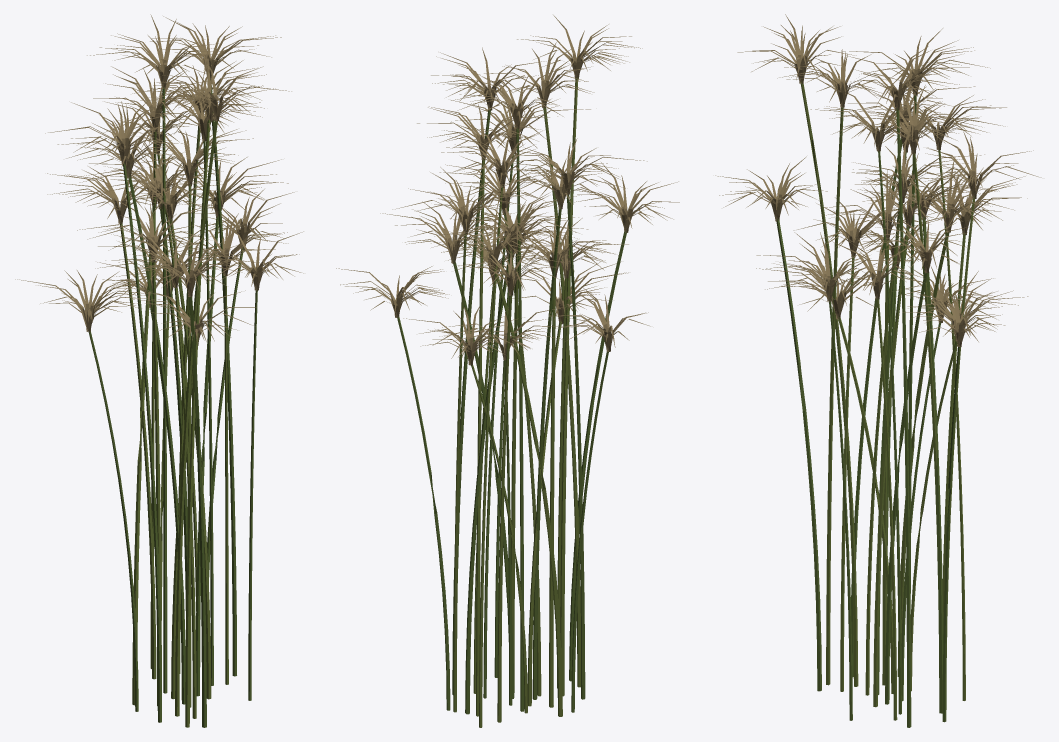
The model's file is common_reed_v1.glb.
3 views of the same model, side by side, from view 1: azimuth 30°, elevation 25°; view 2: azimuth 150°, elevation 25°; view 3: azimuth 270°, elevation 25° (orthographic). The views are drawn at different scales.
Visible parts, largest first — view 1: common_reed_v1; view 2: common_reed_v1; view 3: common_reed_v1.
Boxes of the visible parts, <box> form: common_reed_v1: <box>15,14,303,727</box>; common_reed_v1: <box>336,15,679,727</box>; common_reed_v1: <box>715,14,1041,727</box>.
Bounding box in the file's own units: 1.53 × 3.26 × 1.5.
